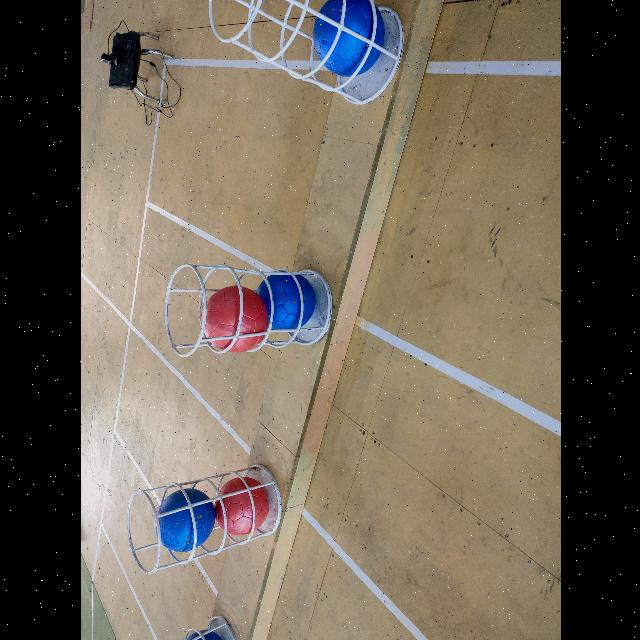B: (312, 0, 384, 76), (153, 489, 214, 551), (253, 270, 314, 332), (178, 630, 226, 640)
R: (200, 286, 268, 352), (212, 476, 268, 534)
